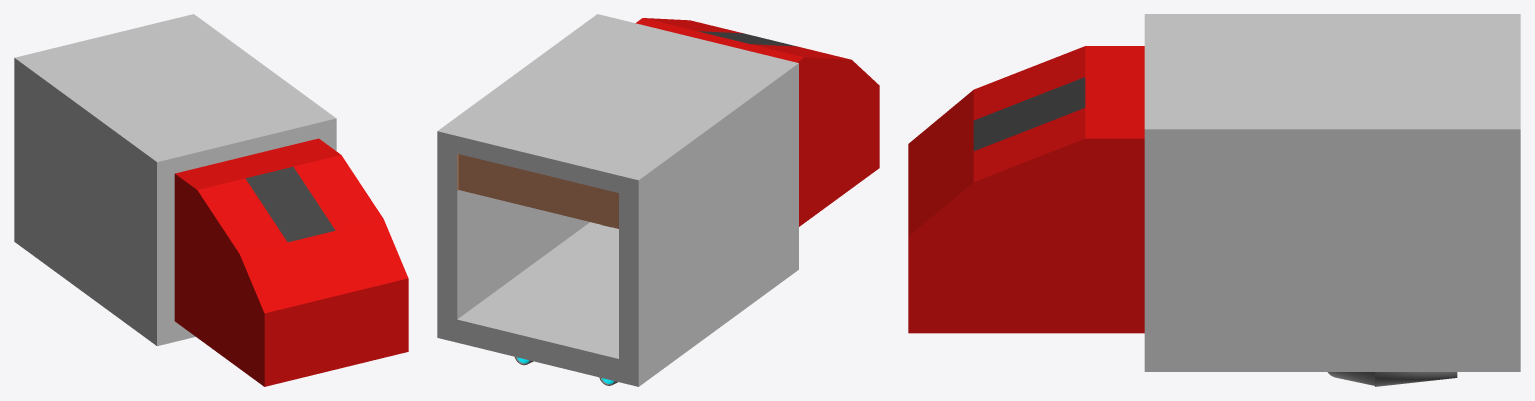
The model's file is Van_2.fbx.
The picture shows the model from 3 angles, left to right: view 1: azimuth 30°, elevation 25°; view 2: azimuth 150°, elevation 25°; view 3: azimuth 270°, elevation 25°; orthographic projection. The views are drawn at different scales.
Visible parts, largest first — view 1: Van_2; view 2: Van_2; view 3: Van_2.
Boxes of the visible parts, <box> form: Van_2: <box>14,14,408,386</box>; Van_2: <box>437,14,879,386</box>; Van_2: <box>908,14,1520,386</box>.
Bounding box in the file's own units: 305 × 356 × 684.
